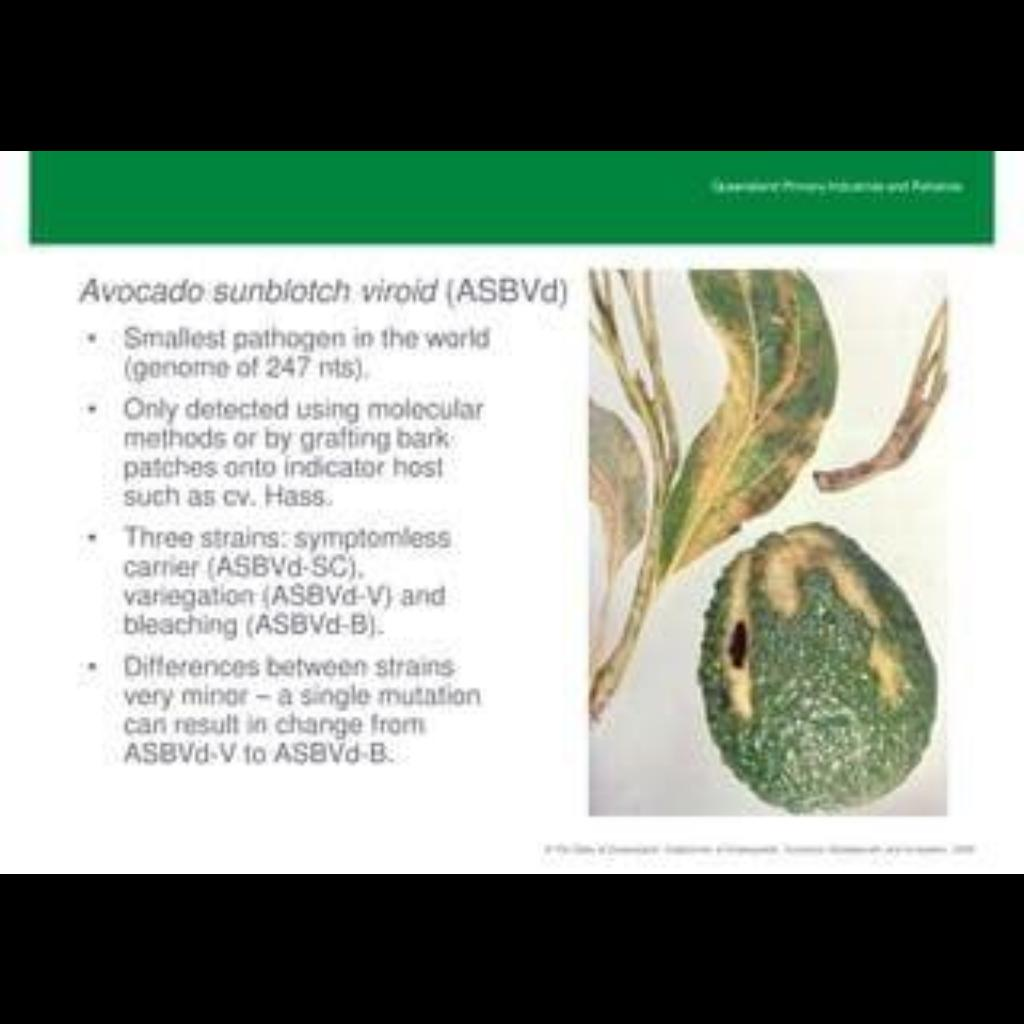sunblotch: (700, 528, 904, 732)
